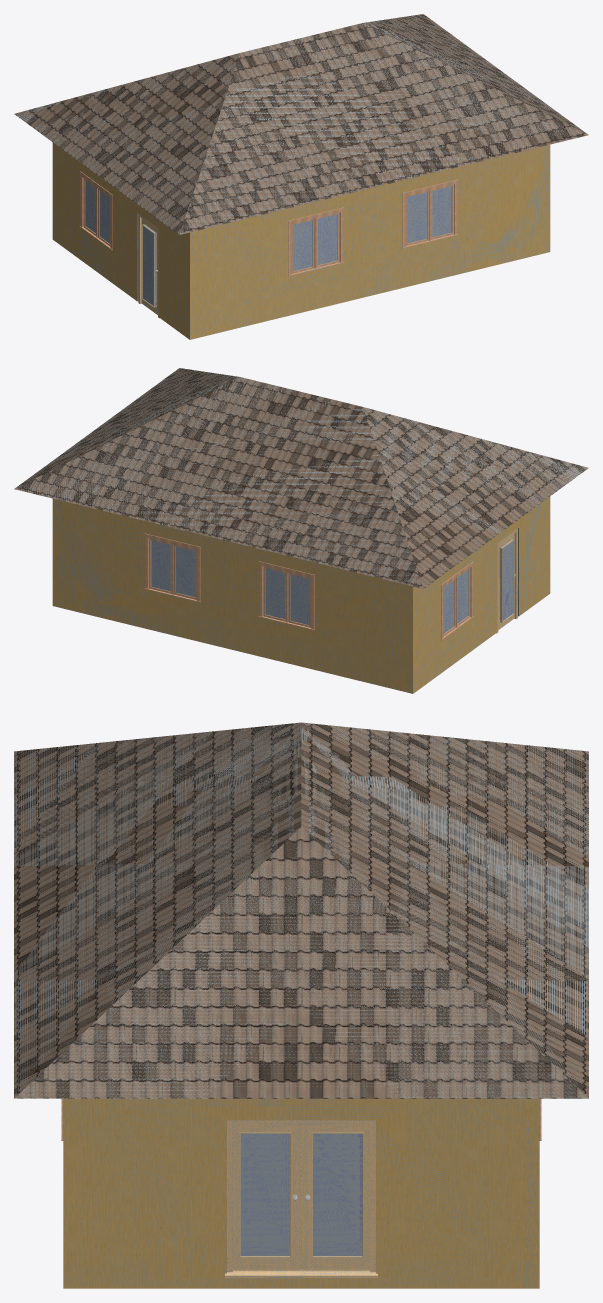
Rendered from 33materialsketch.dae.
3 renders of one model, top to bottom at view 1: azimuth 30°, elevation 25°; view 2: azimuth 150°, elevation 25°; view 3: azimuth 270°, elevation 25°, orthographic. The views are drawn at different scales.
Parts seen in each view (by area): view 1: skpF801 (×15); view 2: skpF801 (×15); view 3: skpF801 (×8).
Part boxes in pixels (x1=…): skpF801 (×15): x1=14, y1=14, x2=588, y2=339; skpF801 (×15): x1=14, y1=368, x2=588, y2=693; skpF801 (×8): x1=14, y1=722, x2=588, y2=1288.
Bounding box in the file's own units: 394 × 276 × 193.
9 materials, 4 textured.
